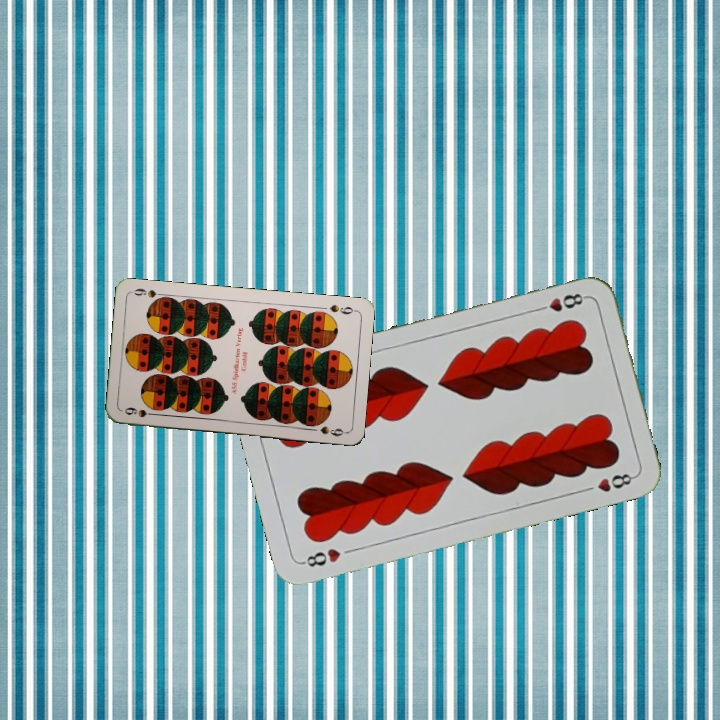H8: (532, 289, 590, 315), (298, 544, 344, 570)
S9: (121, 403, 160, 420), (326, 300, 358, 317)
